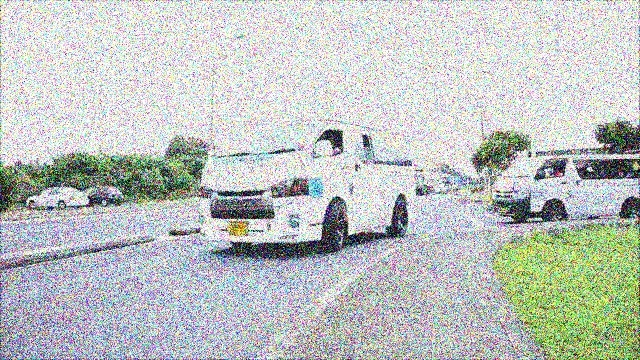van: (199, 119, 418, 254), (484, 151, 639, 225)
